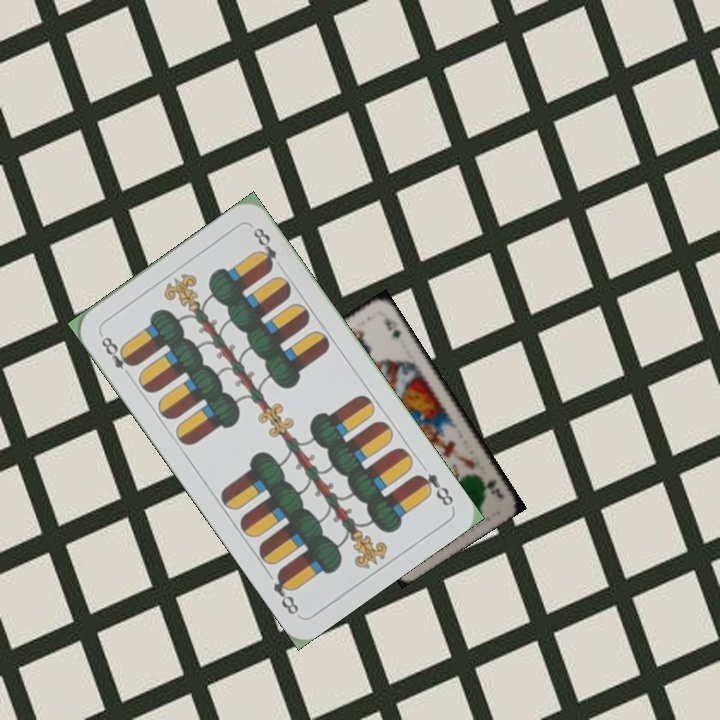E8: (96, 329, 138, 381), (411, 469, 457, 509)
GK: (483, 475, 507, 501)
